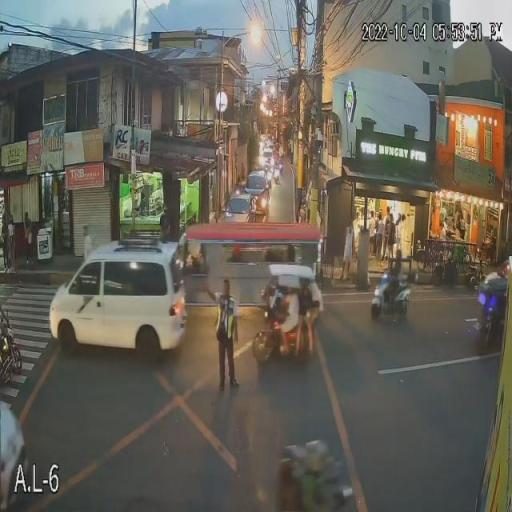helmet: (304, 436, 336, 477), (276, 444, 308, 482)
motorcycle: (370, 277, 413, 325), (0, 313, 22, 386)
rider: (300, 432, 338, 510), (276, 439, 306, 512), (378, 252, 406, 303)
